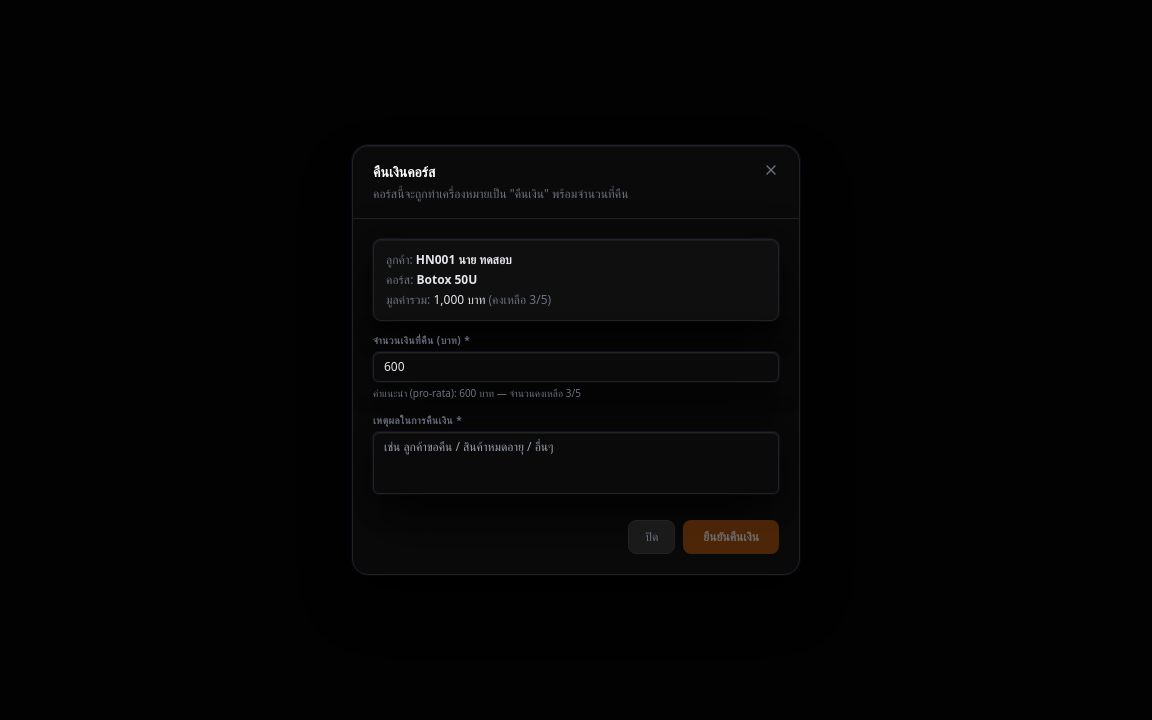
M2 RefundCourseModal › M2.5 error banner on failure
In the text box with test id "refund-course-reason": (576, 463) left=373, top=432, right=779, bottom=494, type "r"
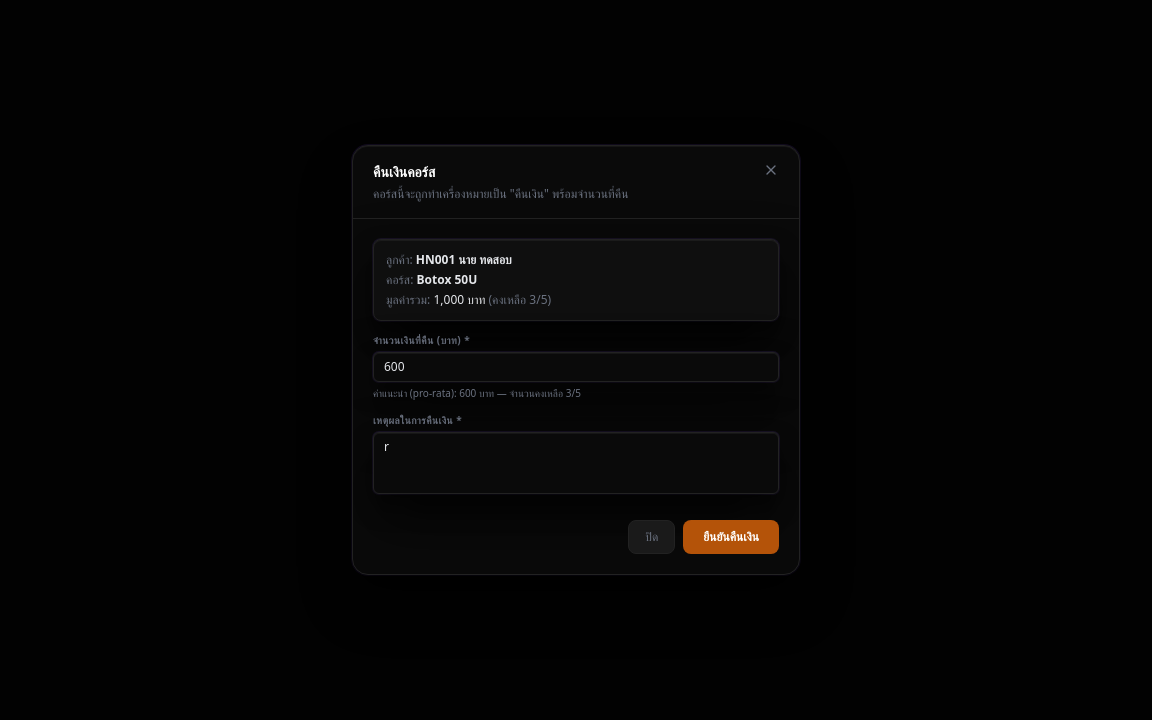
Click the button with test id "refund-course-submit": (731, 537) left=683, top=520, right=779, bottom=554
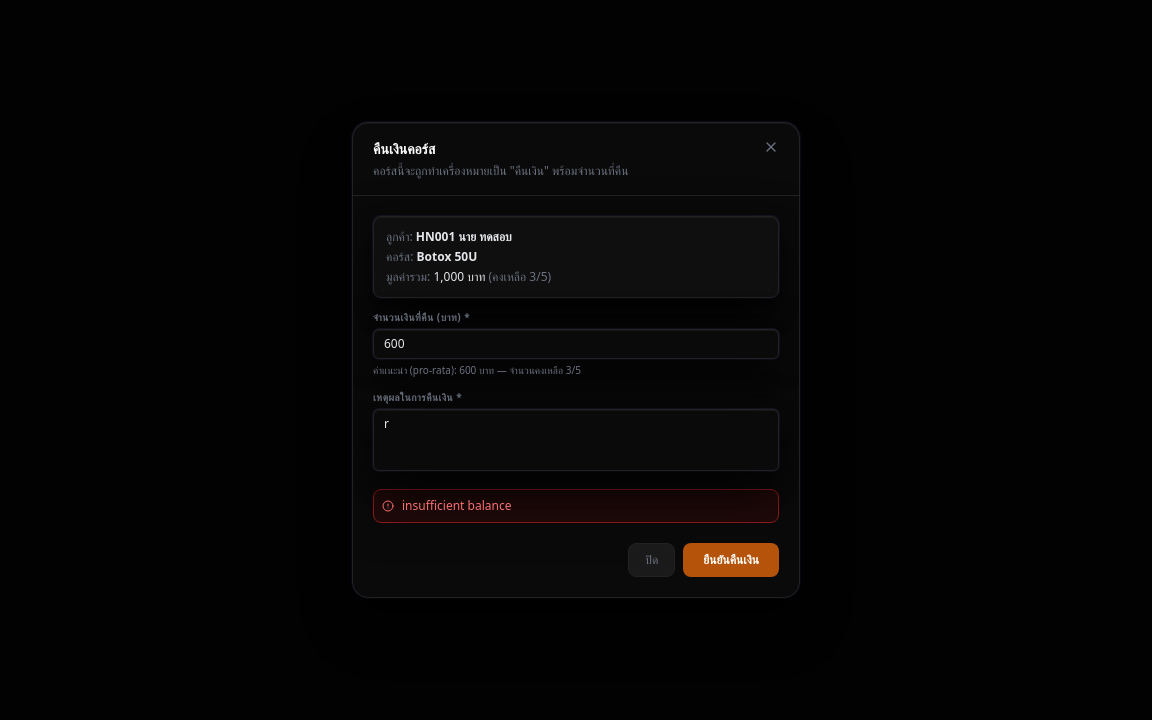
expect the element with test id "refund-course-error" is shown: met, box left=373, top=489, right=779, bottom=523
